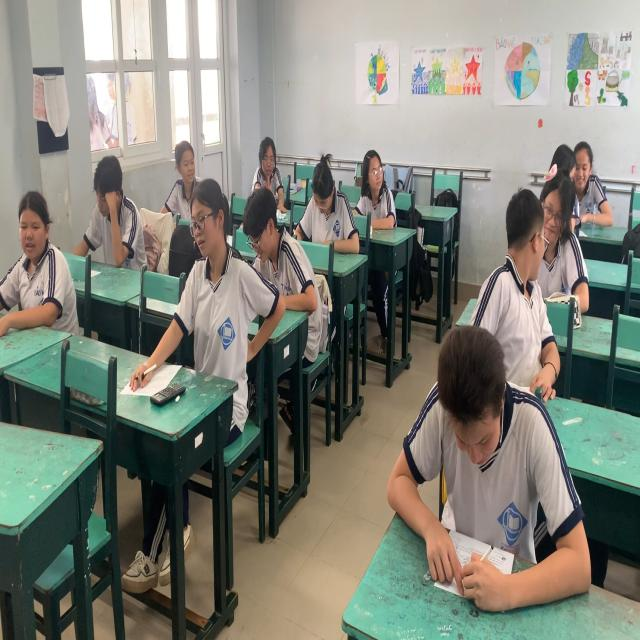cheating: (489, 188, 558, 384), (550, 128, 622, 243), (352, 150, 396, 232), (252, 135, 289, 195)
not_cheating: (420, 315, 558, 547), (177, 178, 252, 363), (0, 185, 69, 333), (238, 185, 295, 308), (85, 149, 141, 274), (303, 153, 357, 260), (160, 139, 203, 198)
